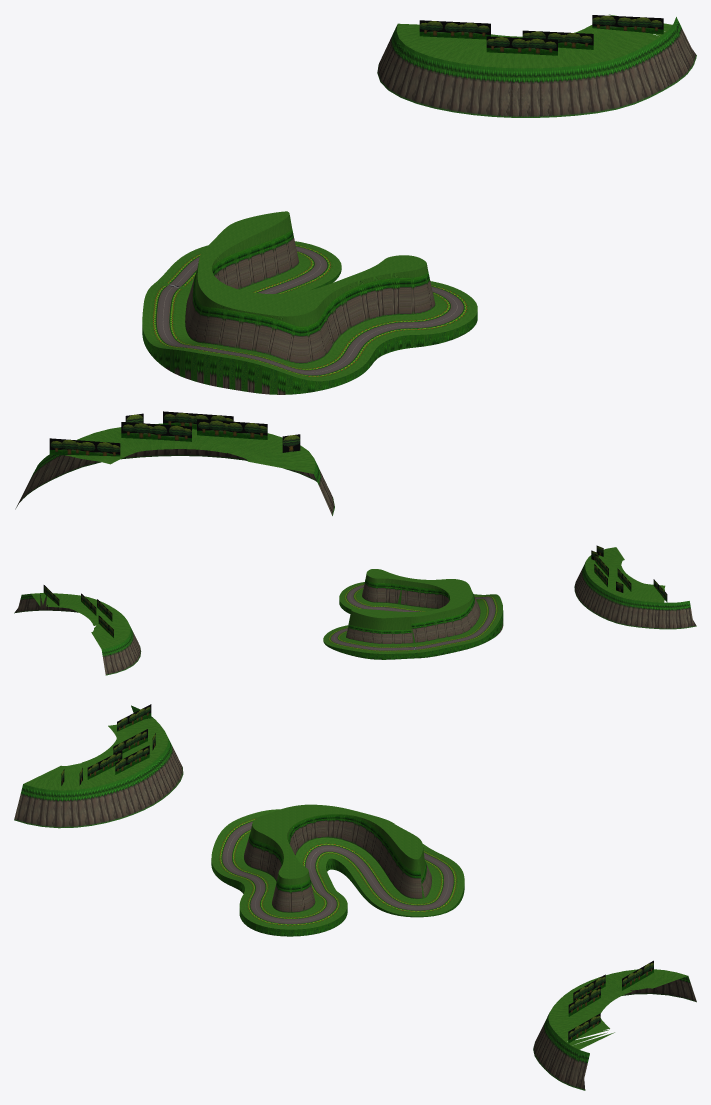
3 views of the same model, one above another, from view 1: azimuth 30°, elevation 25°; view 2: azimuth 150°, elevation 25°; view 3: azimuth 270°, elevation 25° (orthographic). The views are drawn at different scales.
Visible parts, largest first — view 1: texturemorlde_Main-rockwall.001, texturemorlde_Main-rockwall1.001, texturemorlde_Main-Solidfall.001, texturemorlde_Main-grassoffroad.001, texturemorlde_Main-trees.001, texturemorlde_Main-grass_corners.001, texturemorlde_Main-rockwallupsidown.001, texturemorlde_Main-road2.001, texturemorlde_Main-road.001; view 2: texturemorlde_Main-Solidfall.001, texturemorlde_Main-rockwall.001, texturemorlde_Main-rockwall1.001, texturemorlde_Main-grassoffroad.001, texturemorlde_Main-grass_corners.001, texturemorlde_Main-trees.001, texturemorlde_Main-road2.001, texturemorlde_Main-road.001, texturemorlde_Main-rockwallupsidown.001; view 3: texturemorlde_Main-Solidfall.001, texturemorlde_Main-rockwall.001, texturemorlde_Main-rockwall1.001, texturemorlde_Main-grassoffroad.001, texturemorlde_Main-grass_corners.001, texturemorlde_Main-trees.001, texturemorlde_Main-road.001, texturemorlde_Main-road2.001, texturemorlde_Main-rockwallupsidown.001.
Part boxes in pixels (x1,y1,x2,y2): texturemorlde_Main-rockwall.001: (15,17,696,515); texturemorlde_Main-rockwall1.001: (142,228,476,394); texturemorlde_Main-Solidfall.001: (46,14,672,473); texturemorlde_Main-grassoffroad.001: (142,214,477,381); texturemorlde_Main-trees.001: (49,15,663,456); texturemorlde_Main-grass_corners.001: (151,244,468,377); texturemorlde_Main-rockwallupsidown.001: (142,268,477,394); texturemorlde_Main-road2.001: (156,246,463,375); texturemorlde_Main-road.001: (156,246,463,375); texturemorlde_Main-Solidfall.001: (31,547,671,649); texturemorlde_Main-rockwall.001: (14,561,696,675); texturemorlde_Main-rockwall1.001: (324,577,503,659); texturemorlde_Main-grassoffroad.001: (323,574,502,653); texturemorlde_Main-grass_corners.001: (328,584,498,651); texturemorlde_Main-trees.001: (43,554,667,637); texturemorlde_Main-road2.001: (331,586,495,650); texturemorlde_Main-road.001: (331,585,495,650); texturemorlde_Main-rockwallupsidown.001: (323,602,503,659); texturemorlde_Main-Solidfall.001: (23,718,687,1049); texturemorlde_Main-rockwall.001: (14,705,696,1090); texturemorlde_Main-rockwall1.001: (211,814,464,936); texturemorlde_Main-grassoffroad.001: (211,809,464,929); texturemorlde_Main-grass_corners.001: (218,815,457,926); texturemorlde_Main-trees.001: (87,704,653,1043); texturemorlde_Main-road.001: (222,821,453,923); texturemorlde_Main-road2.001: (222,822,453,923); texturemorlde_Main-rockwallupsidown.001: (211,858,464,936).
Bounding box in the file's own units: 264036 × 16429 × 210199.
Materials: 14 (14 with a texture image).
